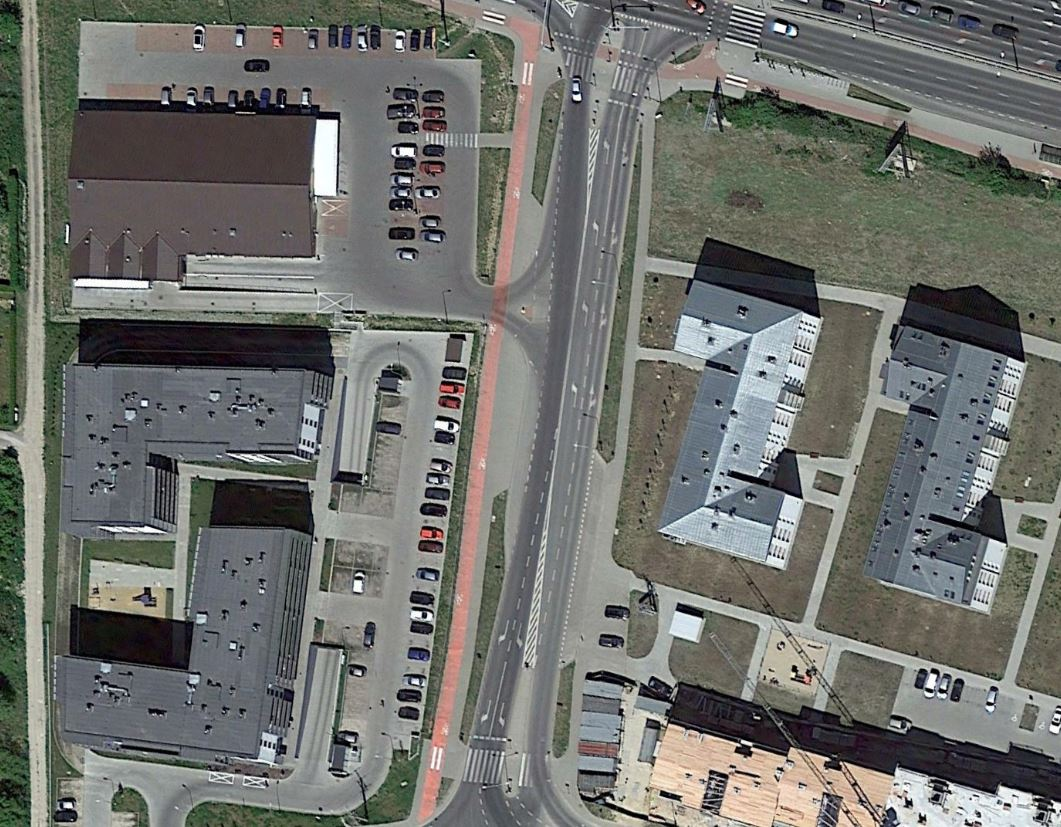block of flats: (45, 318, 349, 556), (46, 515, 319, 778), (649, 273, 839, 579), (858, 312, 1033, 607), (656, 698, 1061, 825)
garage: (561, 661, 633, 802)
shopping_center: (55, 86, 364, 291)
